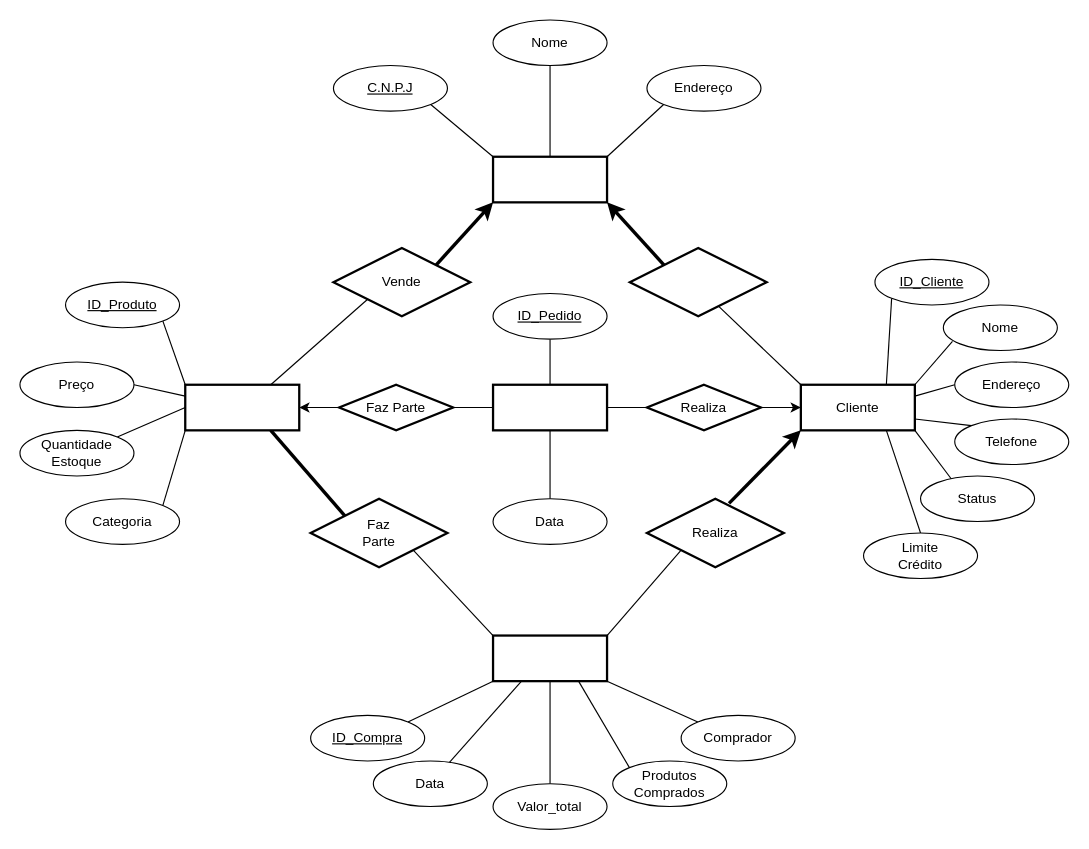
Some shapes in this 1089 by 849 pixel diagram are drawn without their labels. Here are the shapes that lost their labels. From the top down, the centre of each, then its label:
At point 549,179: "Firma".
At point 697,281: "Atende".
At point 242,407: "Produto".
At point 549,407: "Pedido".
At point 549,658: "Compra".
